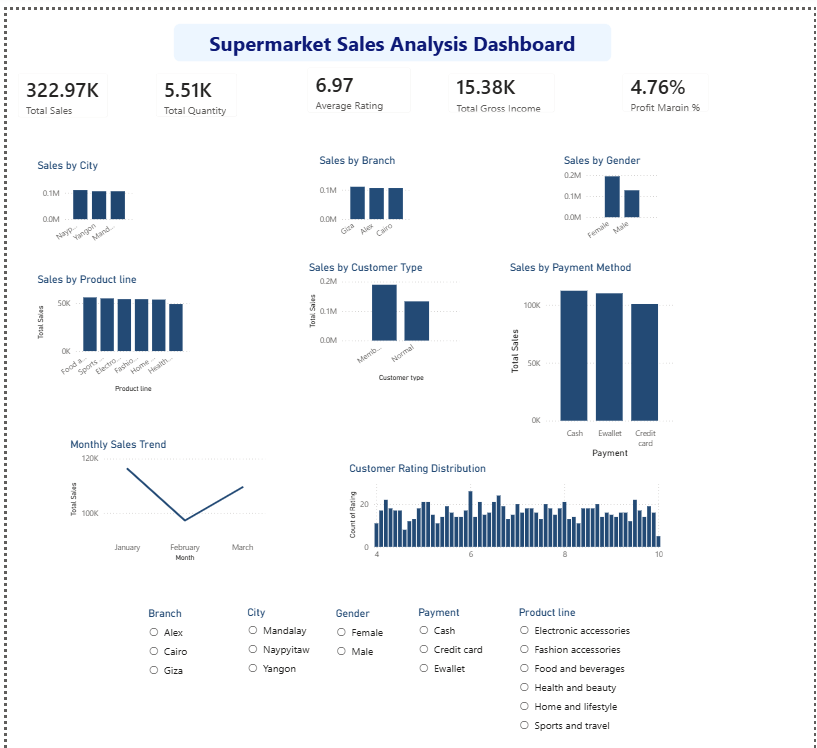

This screenshot's page, from the dashboard's own definition file:
{"tool":"powerbi","page":{"name":"Page 1","canvas":[1280,1500],"ordinal":0},"visuals":[{"type":"cardVisual","fields":{"Data":["SuperMarket Analysis.Profit Margin %"]},"box":[959.2,83.1,171.2,95.5],"z":1000},{"type":"cardVisual","fields":{"Data":["SuperMarket Analysis.Total Sales"]},"box":[0,83.1,177.3,104.5],"z":2000},{"type":"cardVisual","fields":{"Data":["SuperMarket Analysis.Total Gross Income"]},"box":[684.5,83.1,203,97],"z":3000},{"type":"cardVisual","fields":{"Data":["SuperMarket Analysis.Total Quantity"]},"box":[218.3,83.1,163.6,103],"z":4000},{"type":"cardVisual","fields":{"Data":["SuperMarket Analysis.Average Rating"]},"box":[460.6,74.6,198.5,106.1],"z":5000},{"type":"clusteredColumnChart","title":" Sales by City","fields":{"Category":["SuperMarket Analysis.City"],"Y":["SuperMarket Analysis.Total Sales"]},"box":[43.7,236.6,162.1,143.9],"z":6000},{"type":"clusteredColumnChart","title":"Sales by Branch","fields":{"Category":["SuperMarket Analysis.Branch"],"Y":["SuperMarket Analysis.Total Sales"]},"box":[491.5,228.2,156,152],"z":7000},{"type":"clusteredColumnChart","title":"Sales by Product line","fields":{"Category":["SuperMarket Analysis.Product line"],"Y":["SuperMarket Analysis.Total Sales"]},"box":[43.7,416.9,252.1,194.4],"z":8000},{"type":"lineChart","title":"Monthly Sales Trend","fields":{"Category":["SuperMarket Analysis.Date.Variation.Date Hierarchy.Year","SuperMarket Analysis.Date.Variation.Date Hierarchy.Quarter","SuperMarket Analysis.Date.Variation.Date Hierarchy.Month","SuperMarket Analysis.Date.Variation.Date Hierarchy.Day"],"Y":["SuperMarket Analysis.Total Sales"]},"box":[95.8,678.9,319.7,201.4],"z":9000},{"type":"clusteredColumnChart","title":"Sales by Payment Method","fields":{"Category":["SuperMarket Analysis.Payment"],"Y":["SuperMarket Analysis.Total Sales"]},"box":[792,398,270,318],"z":10000},{"type":"clusteredColumnChart","title":"Customer Rating Distribution","fields":{"Category":["SuperMarket Analysis.Rating"],"Y":["CountNonNull(SuperMarket Analysis.Rating)"]},"box":[538,715.5,507.6,165.2],"z":11000},{"type":"clusteredColumnChart","title":"Sales by Gender","fields":{"Category":["SuperMarket Analysis.Gender"],"Y":["SuperMarket Analysis.Total Sales"]},"box":[878.9,228.2,159.1,150],"z":12000},{"type":"clusteredColumnChart","title":"Sales by Customer Type","fields":{"Category":["SuperMarket Analysis.Customer type"],"Y":["SuperMarket Analysis.Total Sales"]},"box":[474.6,398.6,249.3,195.8],"z":13000},{"type":"listSlicer","fields":{"Values":["SuperMarket Analysis.Branch"]},"box":[219.2,948.1,118.3,163.4],"z":14000},{"type":"listSlicer","fields":{"Values":["SuperMarket Analysis.City"]},"box":[376.9,946.2,114.1,163.4],"z":15000},{"type":"listSlicer","fields":{"Values":["SuperMarket Analysis.Gender"]},"box":[517.3,948.1,102.8,153.5],"z":16000},{"type":"listSlicer","fields":{"Values":["SuperMarket Analysis.Payment"]},"box":[648.1,946.2,116.9,153.5],"z":17000},{"type":"listSlicer","fields":{"Values":["SuperMarket Analysis.Product line"]},"box":[807.7,946.2,197,222.7],"z":18000},{"type":"textbox","box":[263.5,21.2,695.5,60.6],"z":18001}]}

Visuals, with their boxes on the page's 1280x1500 design canvas (x1, y1, x2, y2). These are canvas units, not pixel positions in the 817x748 screenshot, which may show the page scaled, cropped or inside an application window:
cardVisual - SuperMarket Analysis.Profit Margin %: [959,83,1130,179]
cardVisual - SuperMarket Analysis.Total Sales: [0,83,177,188]
cardVisual - SuperMarket Analysis.Total Gross Income: [684,83,888,180]
cardVisual - SuperMarket Analysis.Total Quantity: [218,83,382,186]
cardVisual - SuperMarket Analysis.Average Rating: [461,75,659,181]
" Sales by City" clusteredColumnChart: [44,237,206,380]
"Sales by Branch" clusteredColumnChart: [492,228,648,380]
"Sales by Product line" clusteredColumnChart: [44,417,296,611]
"Monthly Sales Trend" lineChart: [96,679,416,880]
"Sales by Payment Method" clusteredColumnChart: [792,398,1062,716]
"Customer Rating Distribution" clusteredColumnChart: [538,716,1046,881]
"Sales by Gender" clusteredColumnChart: [879,228,1038,378]
"Sales by Customer Type" clusteredColumnChart: [475,399,724,594]
listSlicer - SuperMarket Analysis.Branch: [219,948,338,1112]
listSlicer - SuperMarket Analysis.City: [377,946,491,1110]
listSlicer - SuperMarket Analysis.Gender: [517,948,620,1102]
listSlicer - SuperMarket Analysis.Payment: [648,946,765,1100]
listSlicer - SuperMarket Analysis.Product line: [808,946,1005,1169]
textbox: [264,21,959,82]
